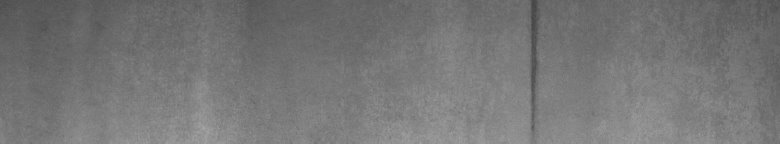hd: (524, 4, 545, 136)
